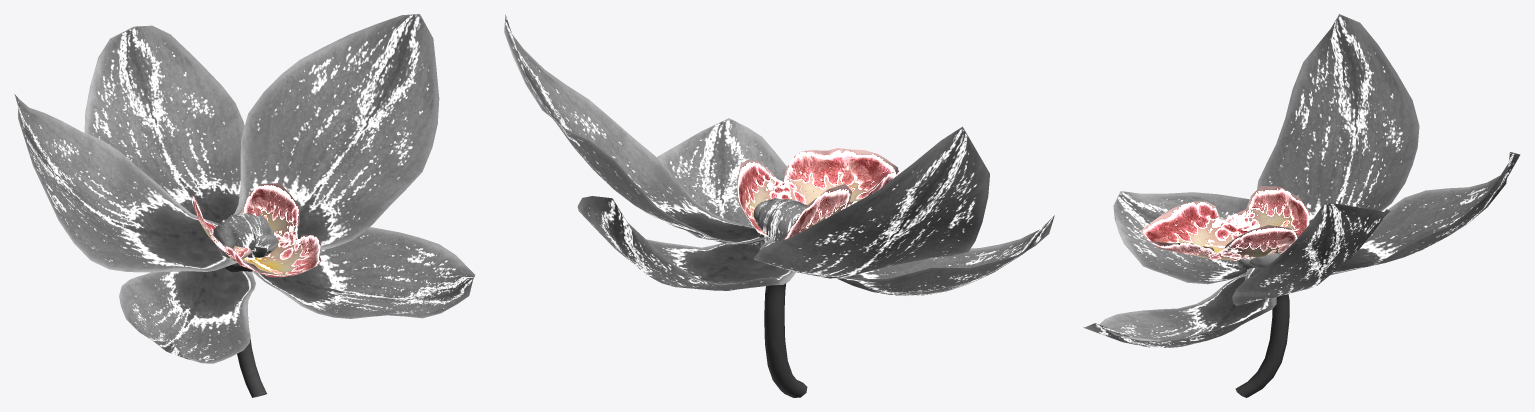
The model's file is orchid.gltf.
3 renders of one model, left to right at view 1: azimuth 30°, elevation 25°; view 2: azimuth 150°, elevation 25°; view 3: azimuth 270°, elevation 25°, orthographic. The views are drawn at different scales.
Parts seen in each view (by area): view 1: orchid4; view 2: orchid4; view 3: orchid4.
Part boxes in pixels (x1,y1,x2,y2): orchid4: [14, 14, 475, 397]; orchid4: [504, 14, 1054, 397]; orchid4: [1083, 14, 1520, 397].
Bounding box in the file's own units: 0.2088 × 0.1536 × 0.2065.
2 materials, 2 textured.
